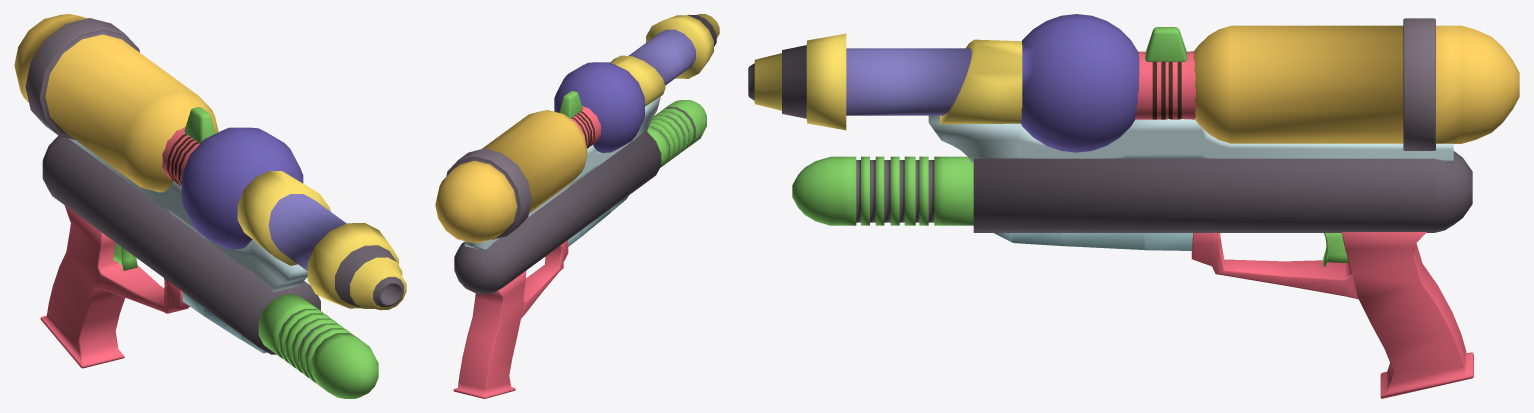
The model's file is Watergun4.fbx.
3 views of the same model, side by side, from view 1: azimuth 30°, elevation 25°; view 2: azimuth 150°, elevation 25°; view 3: azimuth 270°, elevation 25° (orthographic). The views are drawn at different scales.
Visible parts, largest first — view 1: Watergun4; view 2: Watergun4; view 3: Watergun4.
Part boxes in pixels (left/top/right/bottom): Watergun4: left=14, top=14, right=406, bottom=398; Watergun4: left=435, top=14, right=719, bottom=398; Watergun4: left=748, top=14, right=1519, bottom=398.
Bounding box in the file's own units: 0.0734 × 0.2133 × 0.4045.
